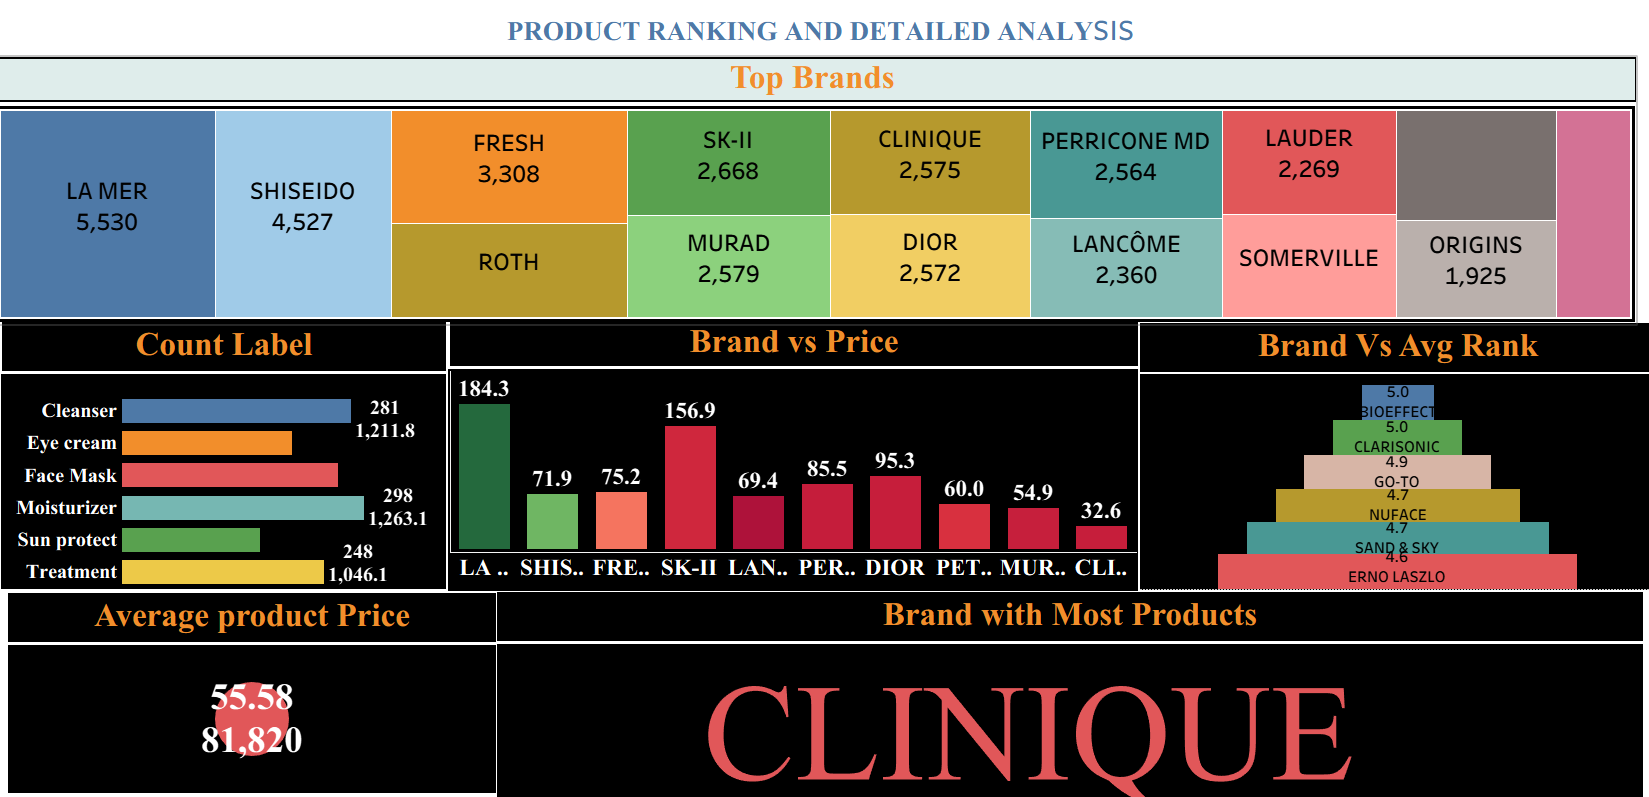

The page's visual inventory and layout, read from the dashboard file:
{"tool":"tableau","page":{"name":"Dashboard 1","canvas":[1000,1000],"units":"permille","ordinal":0},"visuals":[{"type":"title","box":[4.8,10,990.3,56.2]},{"type":"worksheet","title":"Top brands","mark":"Automatic","box":[1.8,72.4,990.3,333.3]},{"type":"worksheet","title":"Brand vs price","mark":"Bar","rows":["Price"],"cols":["Brand"],"box":[275.2,402,416.4,337.1]},{"type":"worksheet","title":"count label","mark":"Automatic","rows":["Label"],"cols":["Label"],"box":[5.4,403.2,268.6,333.3]},{"type":"worksheet","title":"brand vs rank","mark":"Automatic","rows":["Rank"],"box":[692.8,404.5,311.4,333.3]},{"type":"worksheet","title":"kpi 1","mark":"Pie","box":[9.7,741.6,294.5,249.7]}]}

Visuals, with their boxes on the dashboard's canvas, which has no fixed pixel size, in thousandths of its width and height (x1, y1, x2, y2). These are canvas units, not pixel positions in the 1649x797 screenshot, which may show the page scaled, cropped or inside an application window:
title: 5/10/995/66
"Top brands" worksheet: 2/72/992/406
"Brand vs price" worksheet (Bar marks): 275/402/692/739
"count label" worksheet: 5/403/274/736
"brand vs rank" worksheet: 693/404/1004/738
"kpi 1" worksheet (Pie marks): 10/742/304/991
